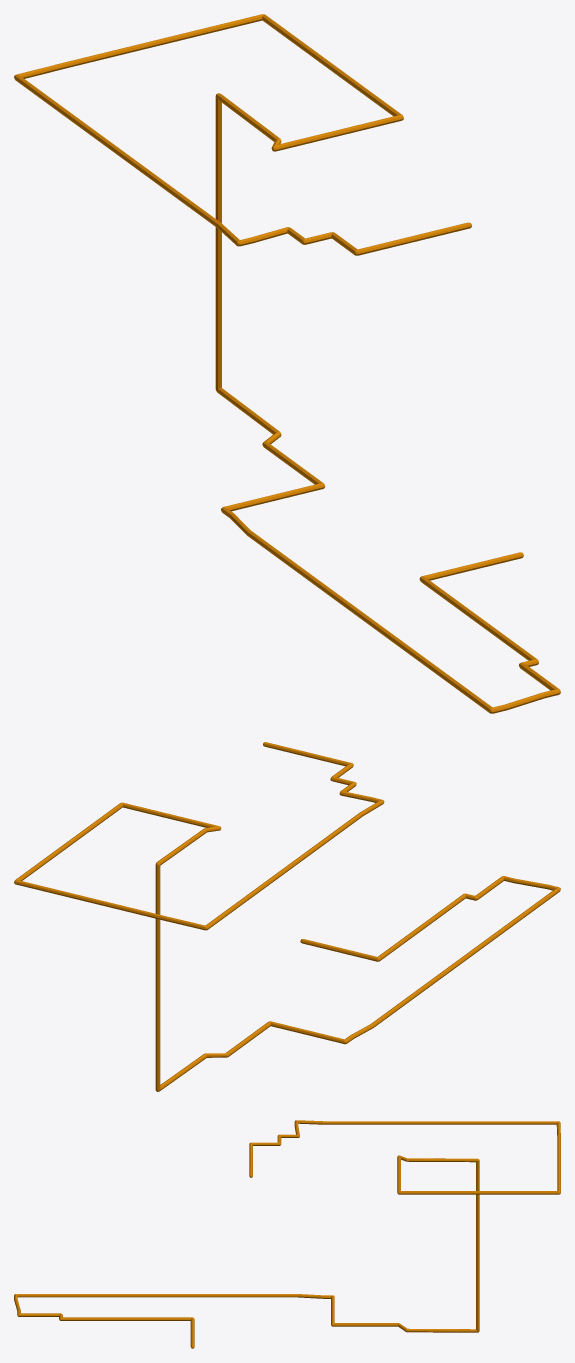
The picture shows the model from 3 angles, top to bottom: view 1: azimuth 30°, elevation 25°; view 2: azimuth 150°, elevation 25°; view 3: azimuth 270°, elevation 25°; orthographic projection. The views are drawn at different scales.
Size of the model in its own units: 912 by 1020 by 2907.
